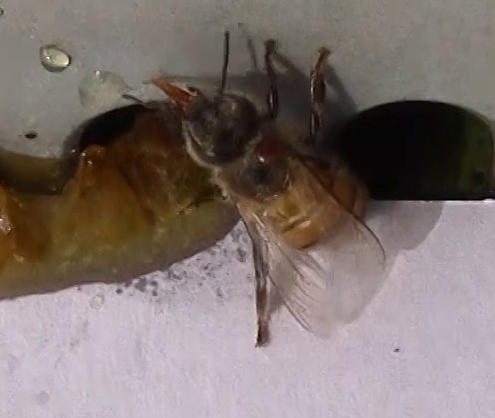Varroa destructor: (253, 142, 294, 169)
